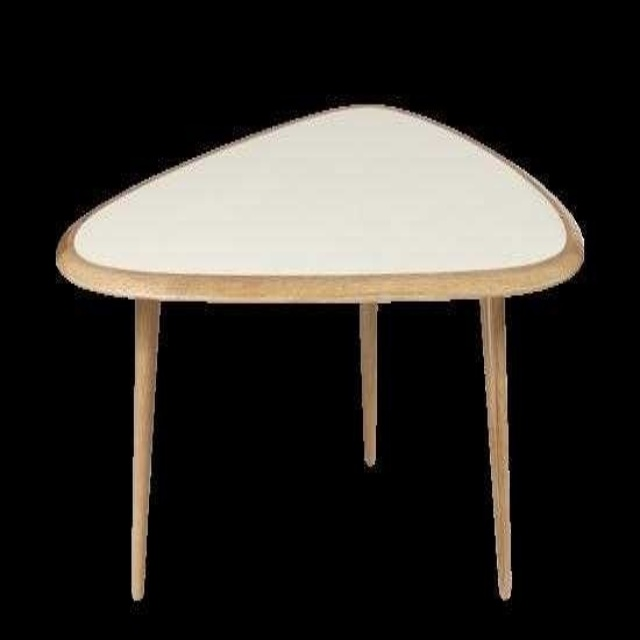obstacle: (57, 106, 583, 599)
